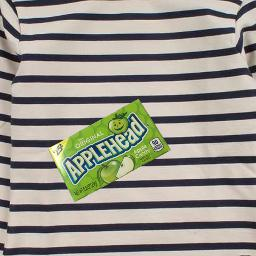5_peppermint_cobalt: (45, 93, 173, 205), (35, 98, 172, 199), (45, 93, 173, 199), (35, 100, 172, 199), (47, 93, 173, 199), (47, 93, 172, 199), (45, 98, 172, 199), (47, 98, 172, 199)
